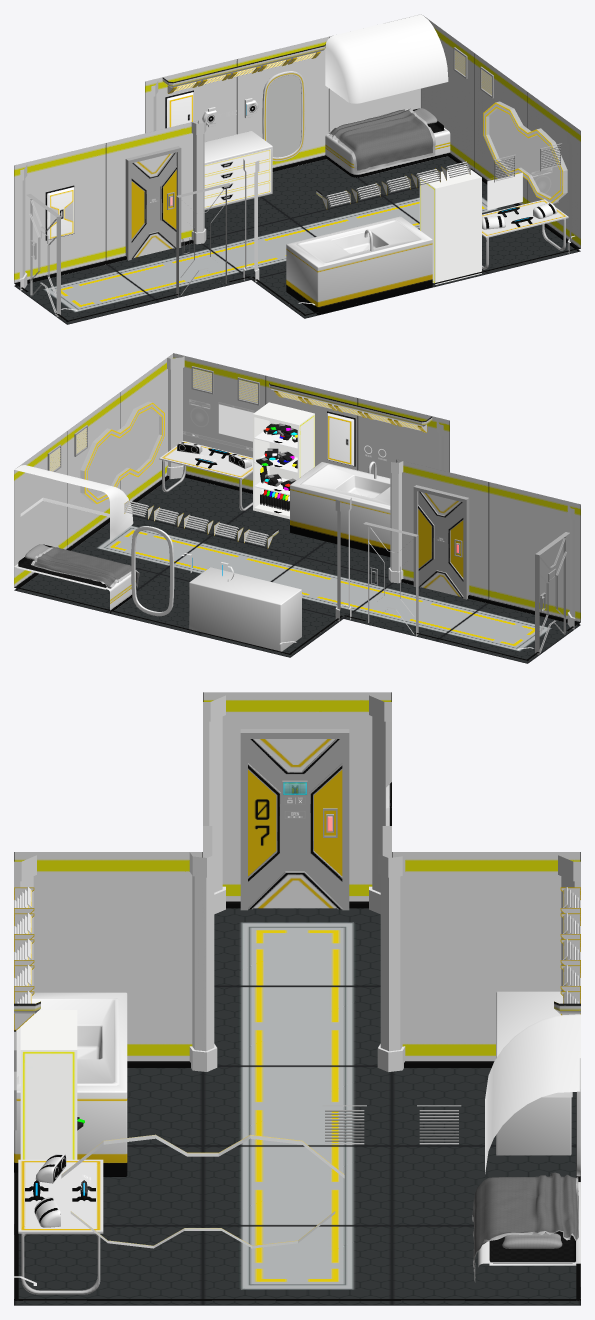
The model's file is bedroom_optimized.glb.
3 renders of one model, top to bottom at view 1: azimuth 30°, elevation 25°; view 2: azimuth 150°, elevation 25°; view 3: azimuth 270°, elevation 25°, orthographic. The views are drawn at different scales.
Visible parts, largest first — view 1: Wall_Wall_0, Floor_Panel.005_Floor_Main_0, Floor_Panel.001_Floor_Detail_Mid_0, Bed_Ceiling_Bed_Ceiling_0, Sink_Base_Sink_Base_0, Bookshelf_Book_Shelf_0, Door_Door_0, Floor_Panel_Floor_Detail_End_0, Window_Window_0, Blanket_Blanket_0, Sink_Sink_0, Drawer_Drawer_0 (+18 smaller); view 2: Wall_Wall_0, Floor_Panel.005_Floor_Main_0, Floor_Panel.001_Floor_Detail_Mid_0, Floor_Panel_Floor_Detail_End_0, Drawer_Chest_Drawer_Chest_0, Door_Door_0, Sink_Base_Sink_Base_0, Window_Window_0, Bookshelf_Book_Shelf_0, Corner_Piece_Corner_Piece_0, Upper_vent_Upper_Vent_0, Outer_Corner_Piece_Outer_Corner_Piece_0 (+17 smaller); view 3: Wall_Wall_0, Floor_Panel.005_Floor_Main_0, Floor_Panel.001_Floor_Detail_Mid_0, Floor_Panel_Floor_Detail_End_0, Door.001_Door_Entrance_0, Outer_Corner_Piece_Outer_Corner_Piece_0, Bookshelf_Book_Shelf_0, Corner_Piece_Corner_Piece_0, Bed_Ceiling_Bed_Ceiling_0, Blanket_Blanket_0, Drawer_Chest_Drawer_Chest_0, Sink_Base_Sink_Base_0 (+10 smaller).
Part boxes in pixels (<box>): Wall_Wall_0: <box>14,15,580,321</box>; Floor_Panel.005_Floor_Main_0: <box>204,156,580,318</box>; Floor_Panel.001_Floor_Detail_Mid_0: <box>108,196,419,302</box>; Bed_Ceiling_Bed_Ceiling_0: <box>325,14,448,103</box>; Sink_Base_Sink_Base_0: <box>286,216,432,314</box>; Bookshelf_Book_Shelf_0: <box>419,165,481,284</box>; Door_Door_0: <box>125,146,231,297</box>; Floor_Panel_Floor_Detail_End_0: <box>14,181,515,324</box>; Window_Window_0: <box>483,101,567,203</box>; Blanket_Blanket_0: <box>326,108,435,173</box>; Sink_Sink_0: <box>296,219,423,264</box>; Drawer_Drawer_0: <box>204,149,270,208</box>; Wall_Wall_0: <box>14,353,580,660</box>; Floor_Panel.005_Floor_Main_0: <box>14,478,390,657</box>; Floor_Panel.001_Floor_Detail_Mid_0: <box>160,535,486,641</box>; Floor_Panel_Floor_Detail_End_0: <box>71,515,580,663</box>; Drawer_Chest_Drawer_Chest_0: <box>189,567,301,651</box>; Door_Door_0: <box>363,485,469,636</box>; Sink_Base_Sink_Base_0: <box>290,462,390,556</box>; Window_Window_0: <box>80,401,164,503</box>; Bookshelf_Book_Shelf_0: <box>253,402,314,519</box>; Corner_Piece_Corner_Piece_0: <box>167,356,575,650</box>; Upper_vent_Upper_Vent_0: <box>124,390,427,548</box>; Outer_Corner_Piece_Outer_Corner_Piece_0: <box>335,459,403,621</box>; Wall_Wall_0: <box>14,692,580,1300</box>; Floor_Panel.005_Floor_Main_0: <box>14,1068,580,1305</box>; Floor_Panel.001_Floor_Detail_Mid_0: <box>203,986,391,1225</box>; Floor_Panel_Floor_Detail_End_0: <box>203,908,391,1305</box>; Door.001_Door_Entrance_0: <box>240,729,349,910</box>; Outer_Corner_Piece_Outer_Corner_Piece_0: <box>189,852,405,1071</box>; Bookshelf_Book_Shelf_0: <box>20,1010,77,1159</box>; Corner_Piece_Corner_Piece_0: <box>14,695,580,1285</box>; Bed_Ceiling_Bed_Ceiling_0: <box>485,1014,580,1173</box>; Blanket_Blanket_0: <box>472,1172,578,1282</box>; Drawer_Chest_Drawer_Chest_0: <box>496,991,571,1155</box>; Sink_Base_Sink_Base_0: <box>14,992,127,1176</box>.
Size of the model in its own units: 10 by 2.5 by 6.
46 materials, 36 textured.
